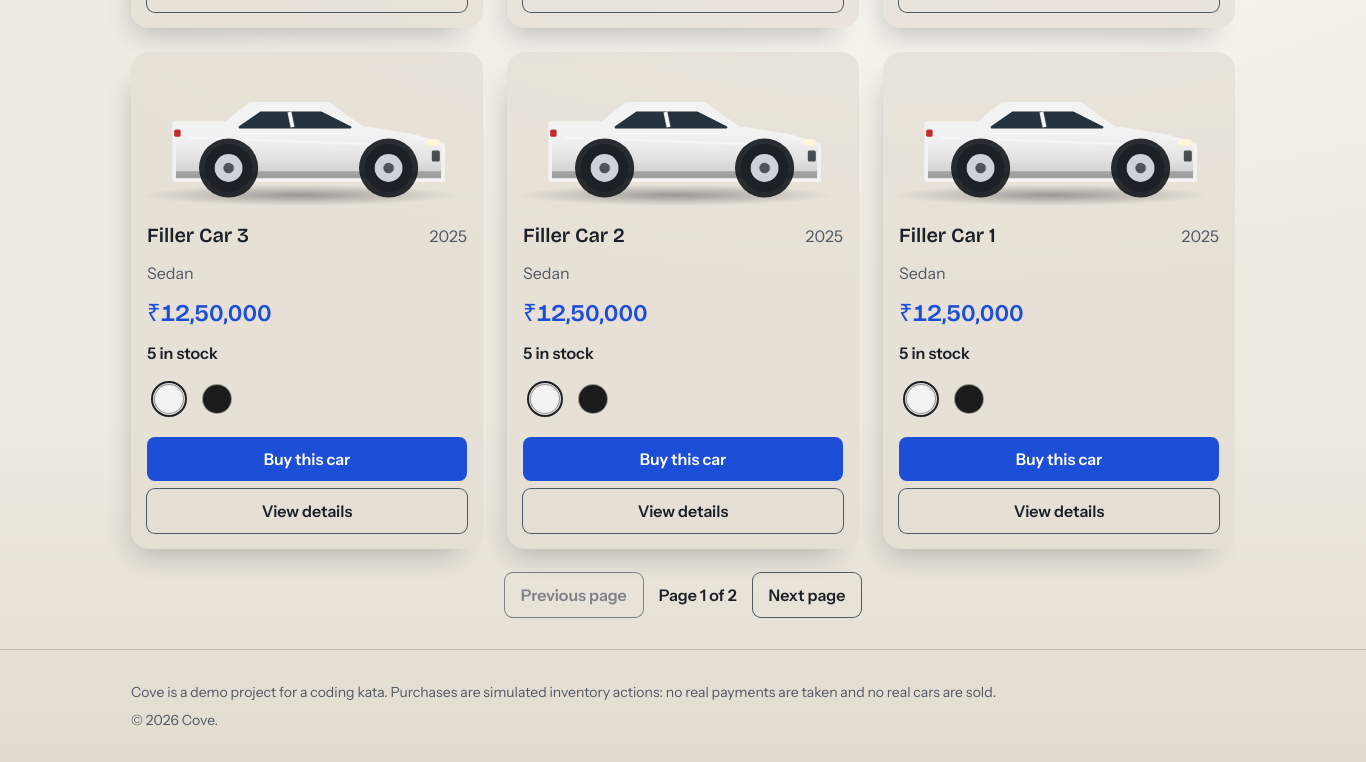
Test: empty, error and paging states › pages through more than 12 cars and keeps the page in the URL
(page scrolled)
Expected: the text "Page 1 of 2" is shown, [659,583,737,607]
Expected: the button "Previous page" is disabled, [505,573,643,617]
What coordinates should you click on to do the following:
click the button "Next page"
I would click on:
 (807, 595)
Its box is [752,573,861,617].
(page scrolled)
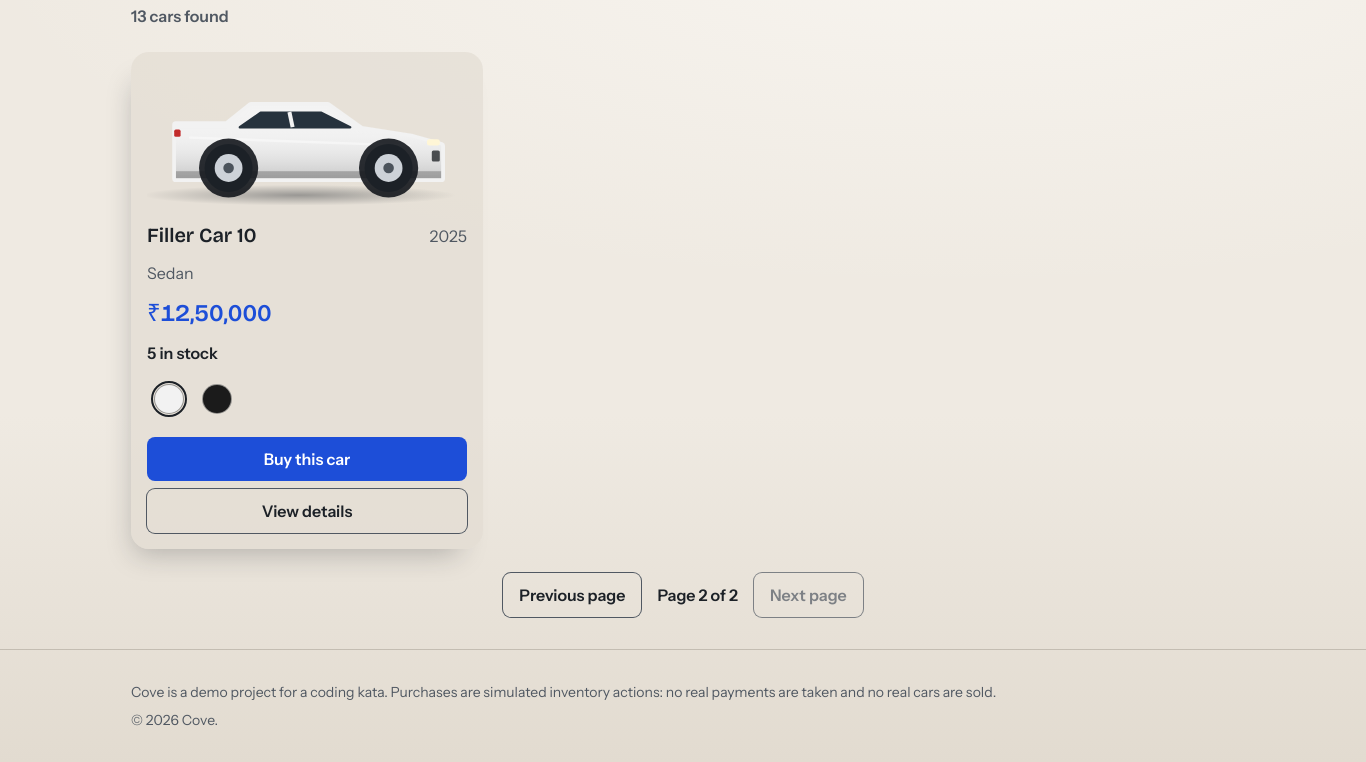
Expected: the text "Page 2 of 2" is shown, [657,583,738,607]
Expected: the button "Next page" is disabled, [754,573,863,617]
